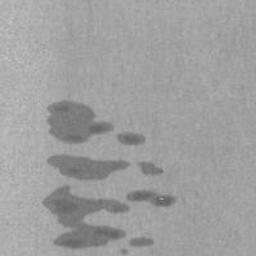Water spot: (40, 183, 179, 256), (45, 97, 147, 148), (46, 152, 166, 183)
